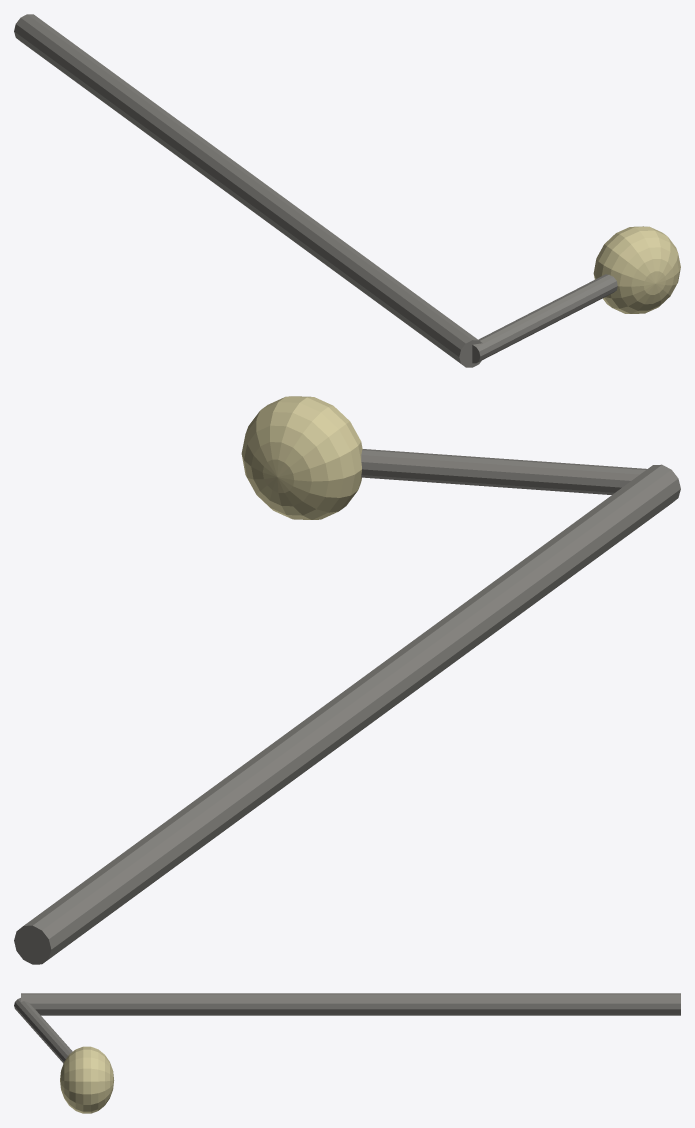
File: street_lamp_old.glb
3 views of the same model, one above another, from view 1: azimuth 30°, elevation 25°; view 2: azimuth 150°, elevation 25°; view 3: azimuth 270°, elevation 25° (orthographic). The views are drawn at different scales.
Parts seen in each view (by area): view 1: world; view 2: world; view 3: world.
Boxes of the visible parts, box(x1,y1,x2,y2) form: world: box(14, 14, 680, 367); world: box(14, 396, 680, 964); world: box(14, 993, 680, 1113).
Bounding box in the file's own units: 1.19 × 0.3563 × 3.54.
